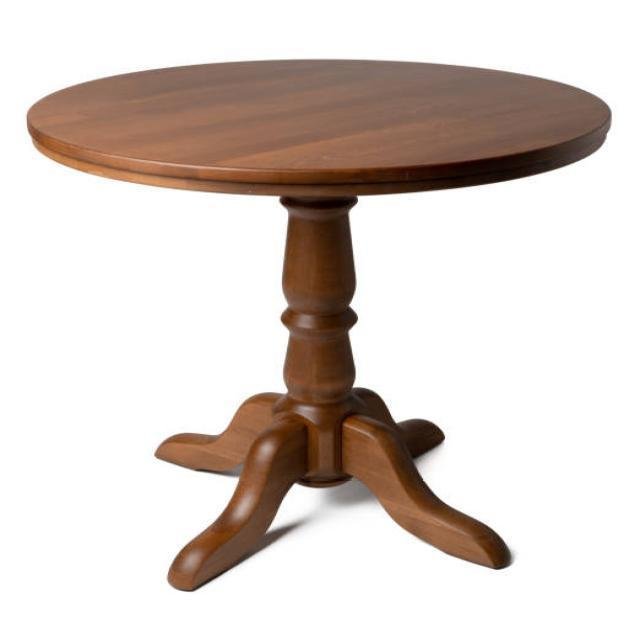table: (24, 56, 612, 591)
